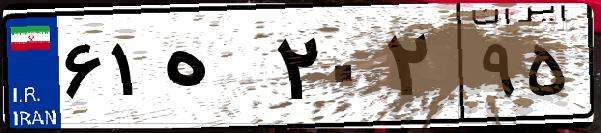0: (330, 28, 385, 110)
1: (110, 28, 158, 98)
2: (270, 28, 330, 110), (385, 28, 445, 110)
5: (525, 38, 570, 115)
6: (57, 26, 110, 100)
9: (475, 38, 525, 113)
ه: (158, 20, 270, 120)
